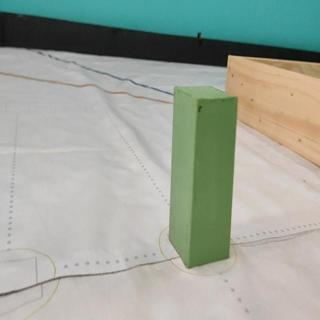greenbox: (167, 83, 239, 269)
